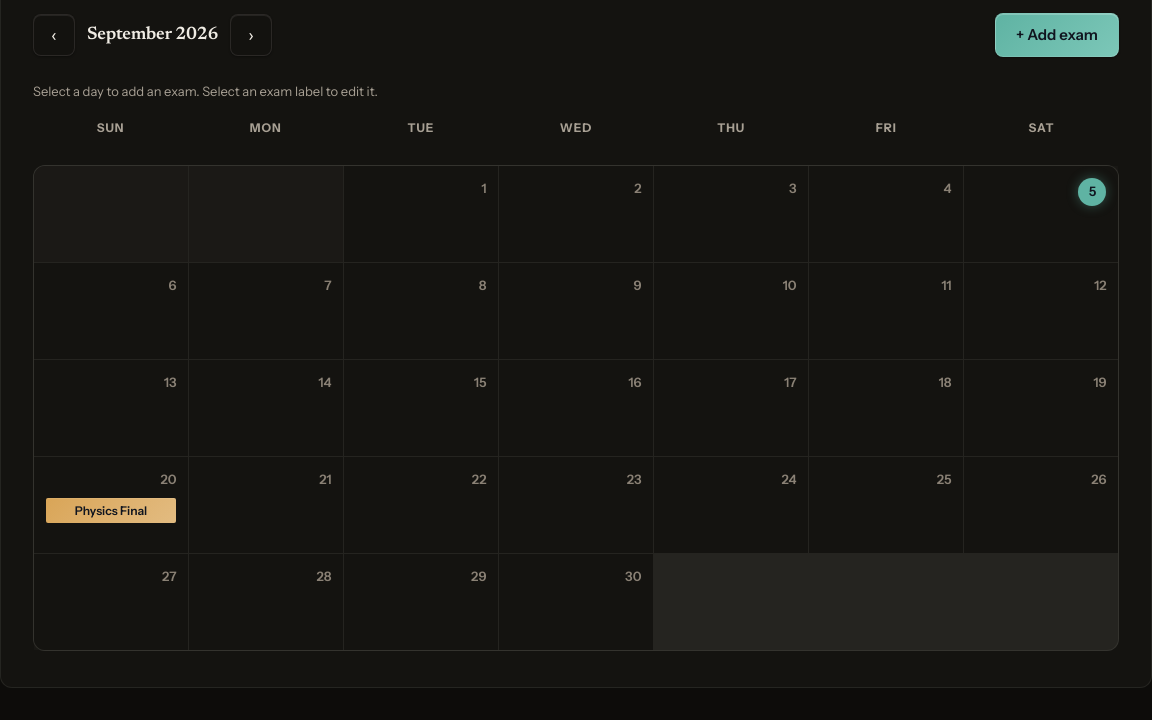
it: ExamsView › opens the day list instead when the day already has exams
(page scrolled)
Click the button "20 Physics Final": (111, 505) top-left (34, 457), bottom-right (188, 553)
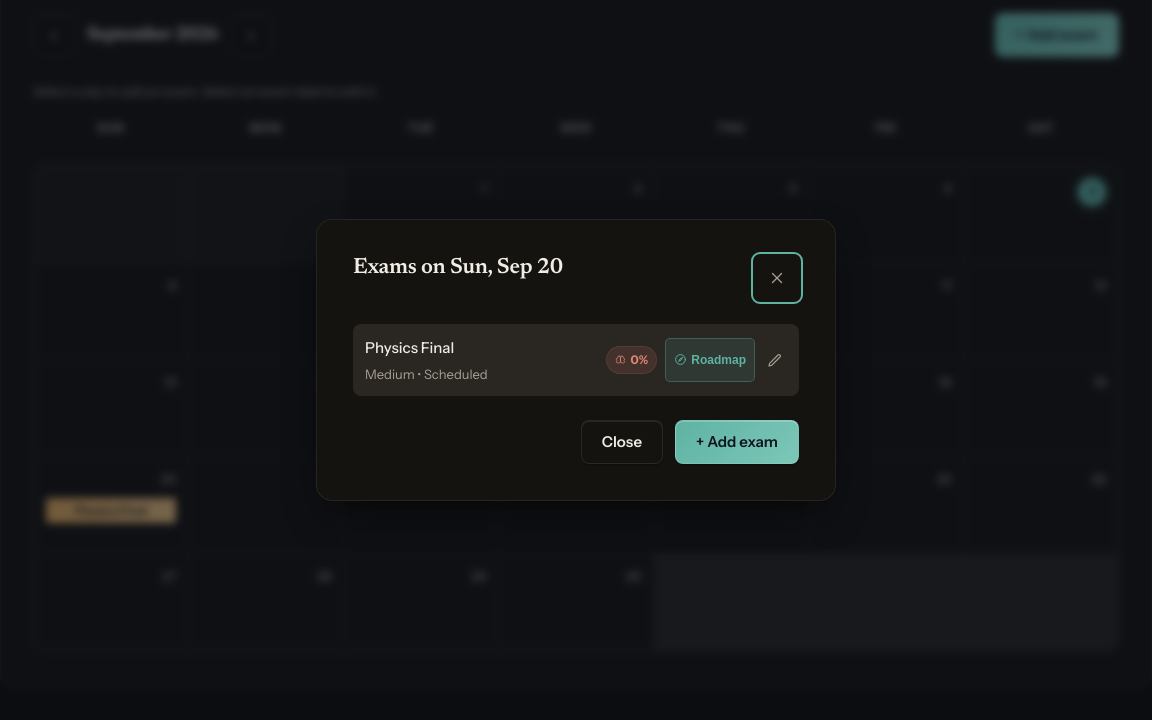
Expected: the heading "Exams on Sun, Sep 20" is shown, top-left (353, 256), bottom-right (563, 281)
Expected: the button with aria-label "Edit exam: Physics Final" is shown, top-left (365, 336), bottom-right (594, 384)
